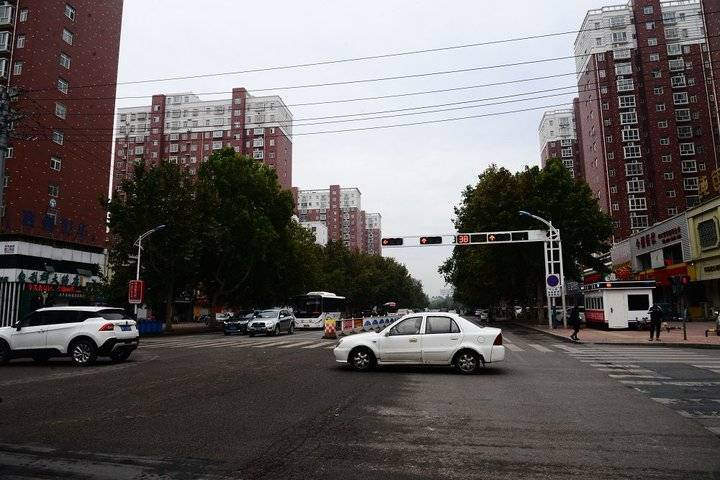bus: (294, 291, 351, 331)
car: (335, 312, 505, 374), (234, 308, 296, 335), (221, 311, 257, 334)
person: (569, 308, 587, 342), (648, 306, 664, 337)
traffic light: (381, 235, 404, 247), (419, 235, 443, 246), (489, 233, 511, 243), (459, 234, 468, 245)
